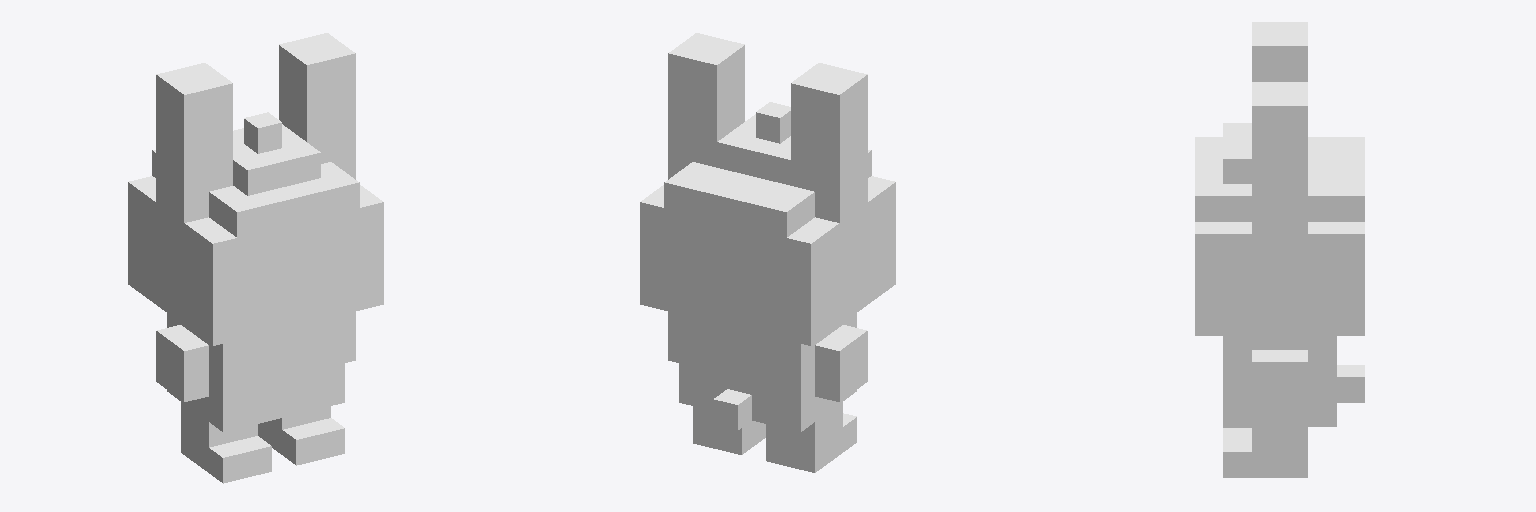
File: tokii_Blueberry.obj
3 views of the same model, side by side, from view 1: azimuth 30°, elevation 25°; view 2: azimuth 150°, elevation 25°; view 3: azimuth 270°, elevation 25° (orthographic).
Parts seen in each view (by area): view 1: object 1; view 2: object 1; view 3: object 1.
Part boxes in pixels (left/top/right/bottom): object 1: left=128, top=33, right=383, bottom=483; object 1: left=640, top=33, right=895, bottom=472; object 1: left=1195, top=22, right=1364, bottom=477.
Bounding box in the file's own units: 0.7 × 1.5 × 0.6.